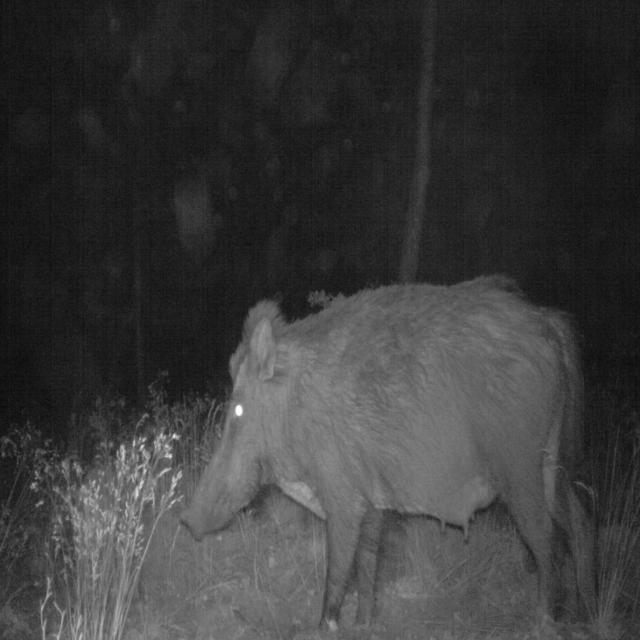pig: (168, 235, 599, 634)
